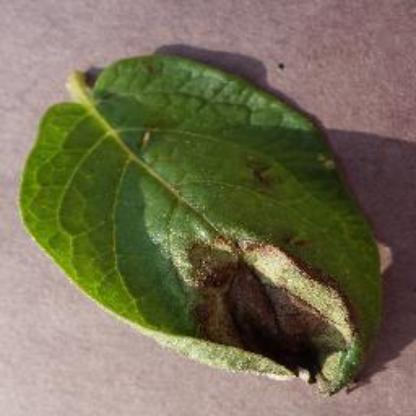Late-Blight: (13, 27, 395, 414)
